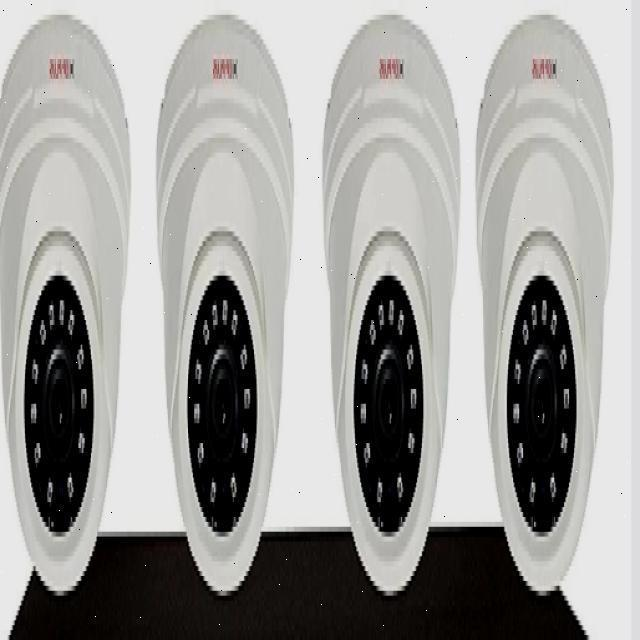cctv: (305, 249, 468, 592), (169, 213, 278, 607), (9, 241, 138, 562), (491, 267, 612, 591)
